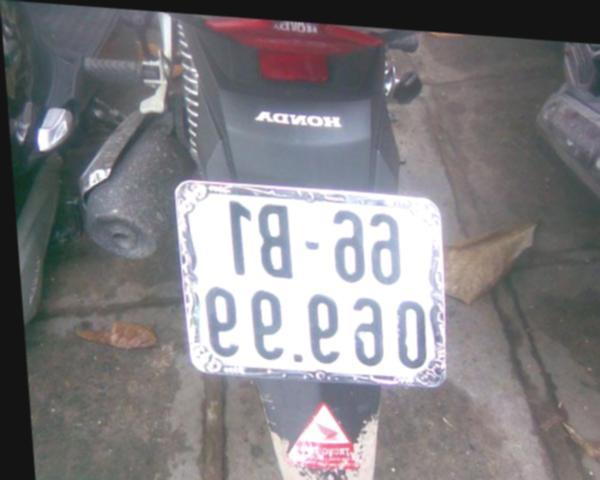License_Plate: (177, 178, 453, 392)
